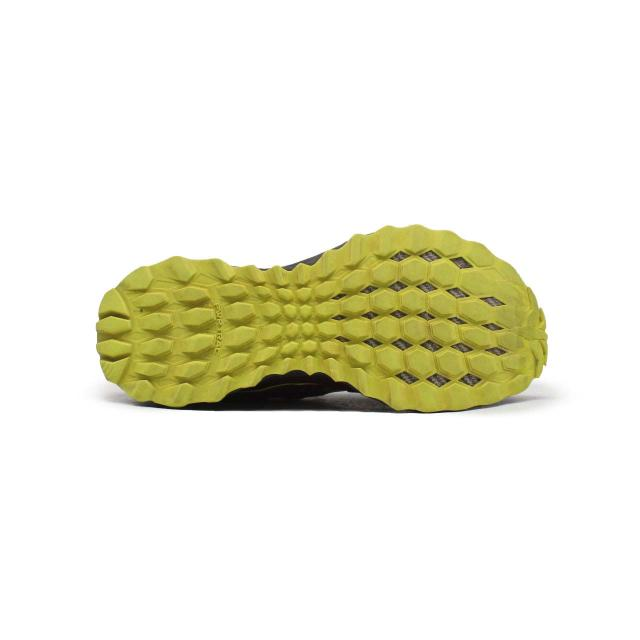outersole: (96, 222, 547, 414)
